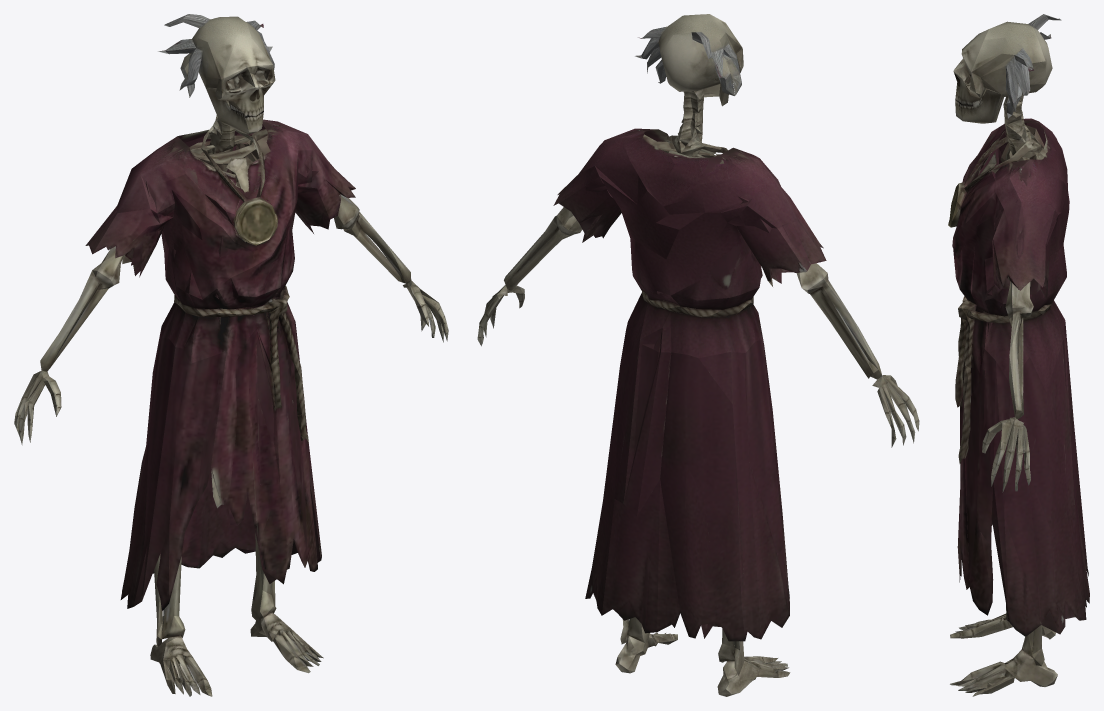
The model's file is MW_SkelMourner.glb.
3 renders of one model, left to right at view 1: azimuth 30°, elevation 25°; view 2: azimuth 150°, elevation 25°; view 3: azimuth 270°, elevation 25°, orthographic. The views are drawn at different scales.
Bounding box in the file's own units: 1.31 × 1.9 × 0.3838.
1 material, 1 textured.
